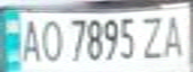5: (118, 15, 142, 61)
7: (63, 16, 87, 63)
8: (84, 16, 106, 63)
9: (103, 16, 124, 62)
A: (157, 9, 190, 60), (15, 16, 45, 63)
O: (36, 16, 66, 63)
Z: (139, 12, 169, 61)
